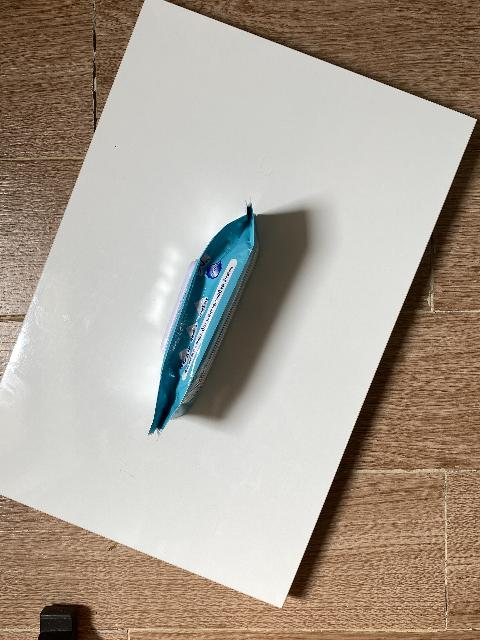Let-green_alcohol_wipes: (148, 197, 259, 442)
